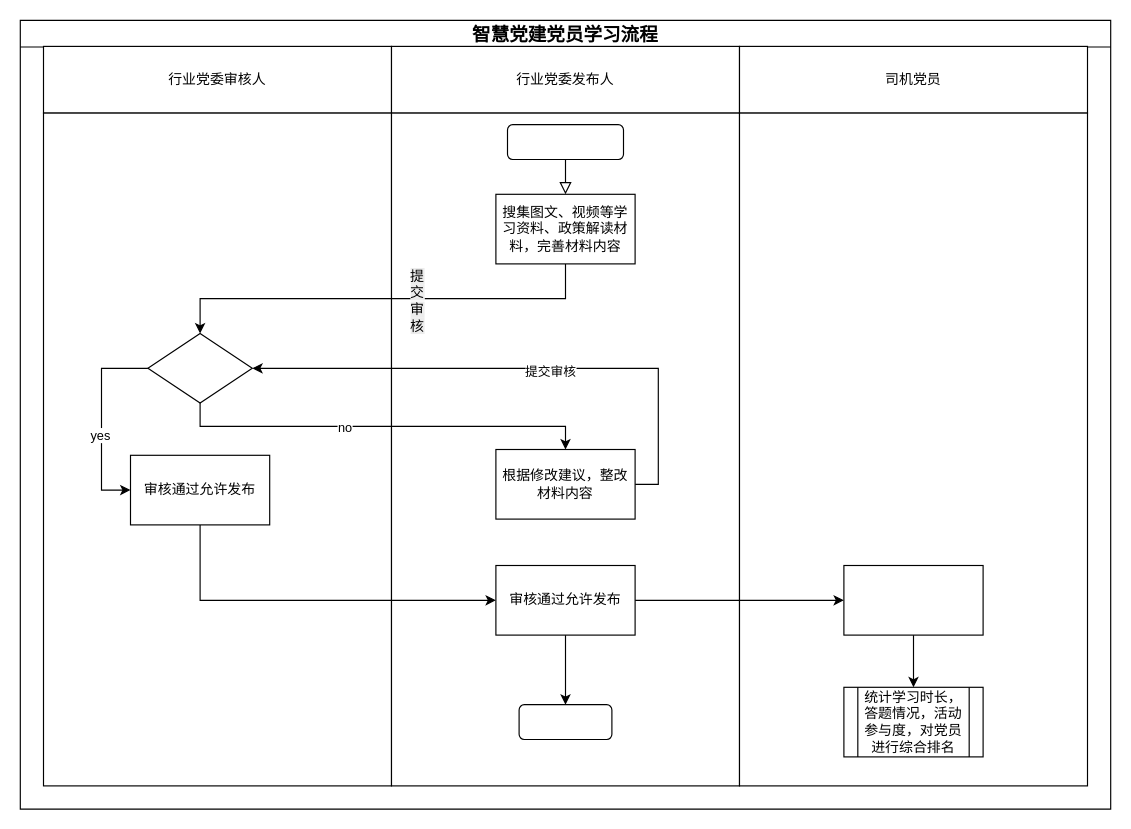
Image size: 1131x829. Some labels were removed from this diagram. The box of each missing label's shape, as (x1, y1, x2, y2) in pixels:
党员用户查阅学习: (843, 564, 983, 635)
审核内容 是 否可以发布: (147, 332, 252, 403)
开始: (506, 124, 624, 160)
结束: (518, 704, 612, 740)
